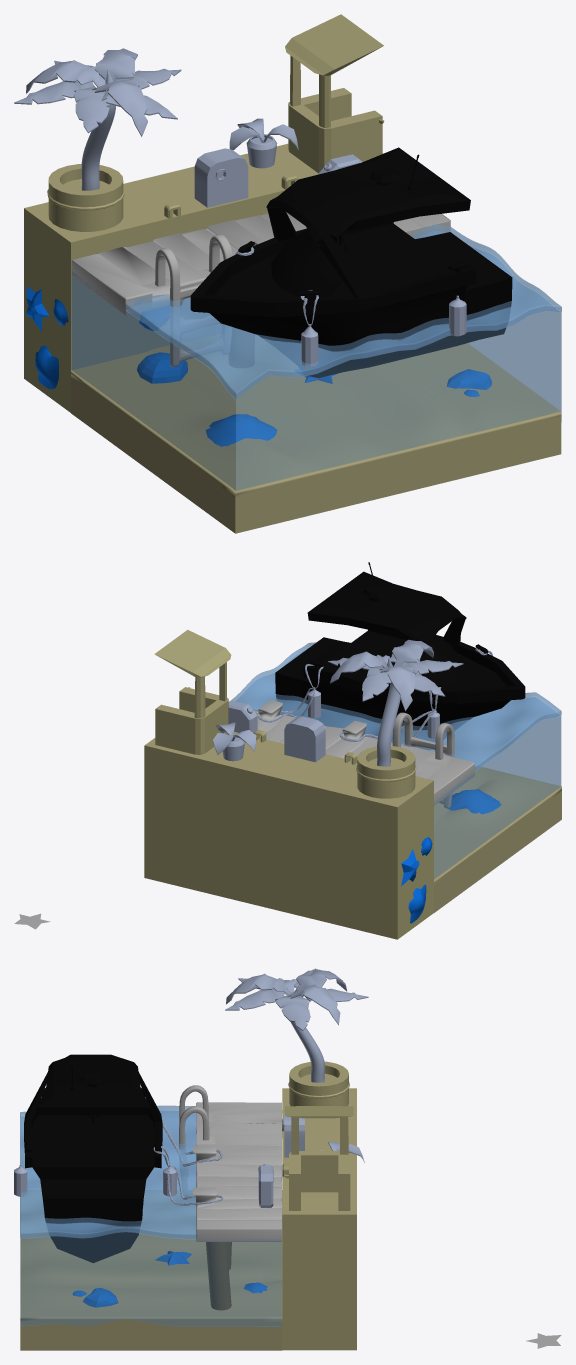
Rendered from noperope.fbx.
3 renders of one model, top to bottom at view 1: azimuth 30°, elevation 25°; view 2: azimuth 150°, elevation 25°; view 3: azimuth 270°, elevation 25°, orthographic. The views are drawn at different scales.
Parts seen in each view (by area): view 1: pPlane17, boat_Obj:pPlane3, polySurface2, PierBlock, polySurface1, pPlane16, WoodPlanks, PierBooth, TreePlanter, GlassPane, Charger, pDisc4 (+13 smaller); view 2: PierBlock, boat_Obj:pPlane3, pPlane17, pPlane16, PierBooth, polySurface2, WoodPlanks, polySurface1, TreePlanter, Charger, GlassPane, extrudedSurface1 (+7 smaller); view 3: pPlane17, boat_Obj:pPlane3, polySurface2, PierBlock, WoodPlanks, polySurface1, pPlane16, PierBooth, TreePlanter, Pier3, extrudedSurface1, pPlane4 (+8 smaller).
Boxes of the visible parts, x1=… form: pPlane17: x1=71, y1=232, x2=561, y2=490; boat_Obj:pPlane3: x1=190, y1=147, x2=512, y2=377; polySurface2: x1=71, y1=334, x2=557, y2=490; PierBlock: x1=24, y1=143, x2=383, y2=412; polySurface1: x1=71, y1=371, x2=561, y2=533; pPlane16: x1=125, y1=224, x2=561, y2=399; WoodPlanks: x1=71, y1=212, x2=450, y2=367; PierBooth: x1=285, y1=14, x2=384, y2=173; TreePlanter: x1=47, y1=164, x2=124, y2=231; GlassPane: x1=271, y1=229, x2=358, y2=297; Charger: x1=194, y1=148, x2=248, y2=207; pDisc4: x1=206, y1=414, x2=277, y2=446; PierBlock: x1=144, y1=730, x2=433, y2=939; boat_Obj:pPlane3: x1=275, y1=571, x2=525, y2=749; pPlane17: x1=237, y1=652, x2=561, y2=878; pPlane16: x1=231, y1=642, x2=561, y2=771; PierBooth: x1=154, y1=629, x2=231, y2=754; polySurface2: x1=434, y1=766, x2=561, y2=879; WoodPlanks: x1=253, y1=700, x2=474, y2=808; polySurface1: x1=434, y1=787, x2=561, y2=912; TreePlanter: x1=356, y1=746, x2=416, y2=798; Charger: x1=284, y1=716, x2=325, y2=762; GlassPane: x1=420, y1=635, x2=462, y2=687; extrudedSurface1: x1=377, y1=682, x2=400, y2=766; pPlane17: x1=20, y1=1111, x2=281, y2=1326; boat_Obj:pPlane3: x1=24, y1=1054, x2=162, y2=1262; polySurface2: x1=20, y1=1190, x2=282, y2=1316; PierBlock: x1=282, y1=1088, x2=356, y2=1350; WoodPlanks: x1=179, y1=1085, x2=282, y2=1241; polySurface1: x1=20, y1=1312, x2=282, y2=1350; pPlane16: x1=20, y1=1105, x2=196, y2=1238; PierBooth: x1=283, y1=1106, x2=353, y2=1210; TreePlanter: x1=288, y1=1061, x2=349, y2=1106; Pier3: x1=206, y1=1242, x2=231, y2=1310; extrudedSurface1: x1=290, y1=993, x2=325, y2=1082; pPlane4: x1=275, y1=995, x2=310, y2=1030.
Bounding box in the file's own units: 10.04 × 7.75 × 14.64.
